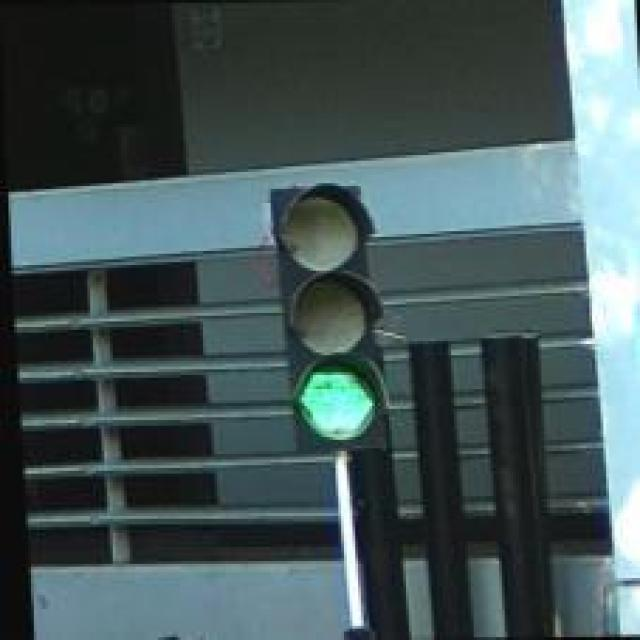traffic light: (270, 183, 390, 451)
